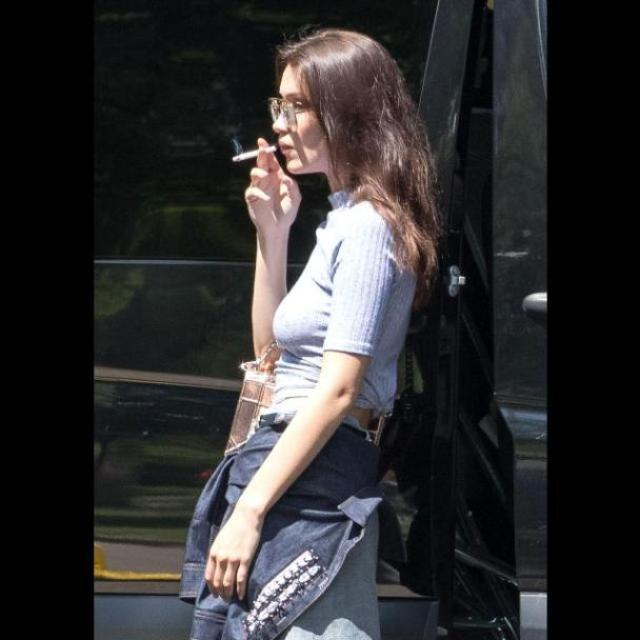rokok: (228, 140, 280, 170)
